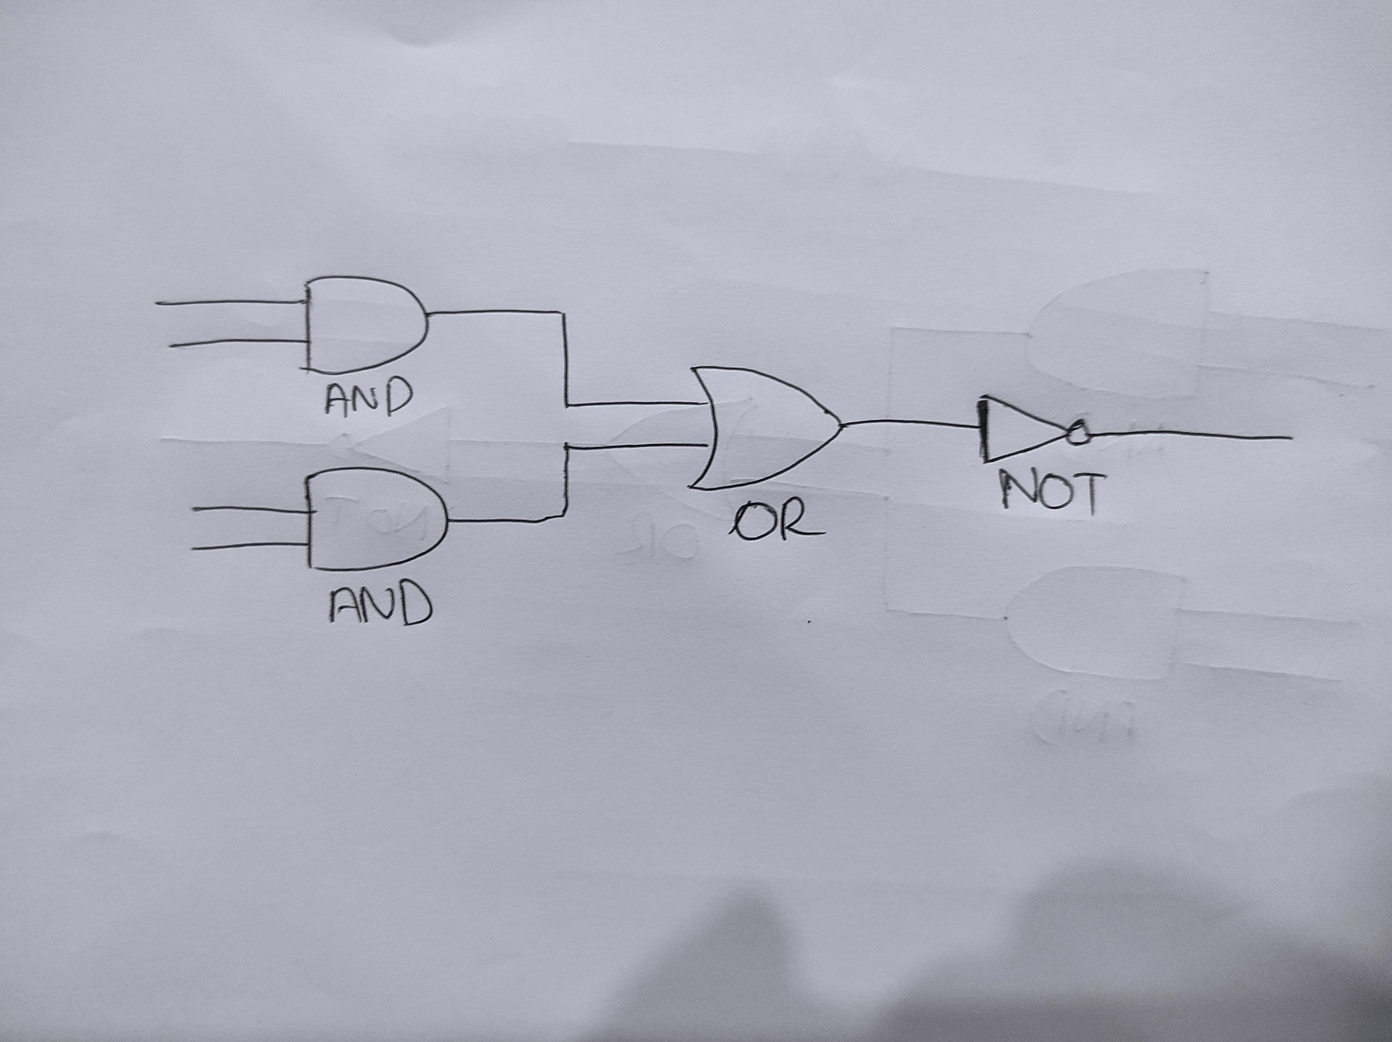and: (300, 462, 453, 576), (295, 271, 431, 379)
junction: (552, 500, 575, 526), (550, 303, 573, 324), (557, 436, 577, 458), (555, 395, 575, 416)
not: (974, 392, 1093, 467)
or: (684, 362, 849, 495)
terminal: (1272, 428, 1304, 451), (149, 297, 166, 313), (186, 541, 202, 556), (186, 502, 204, 517), (164, 339, 179, 354)
text: (995, 463, 1110, 519), (321, 579, 434, 633), (728, 494, 827, 543), (320, 377, 419, 419)
